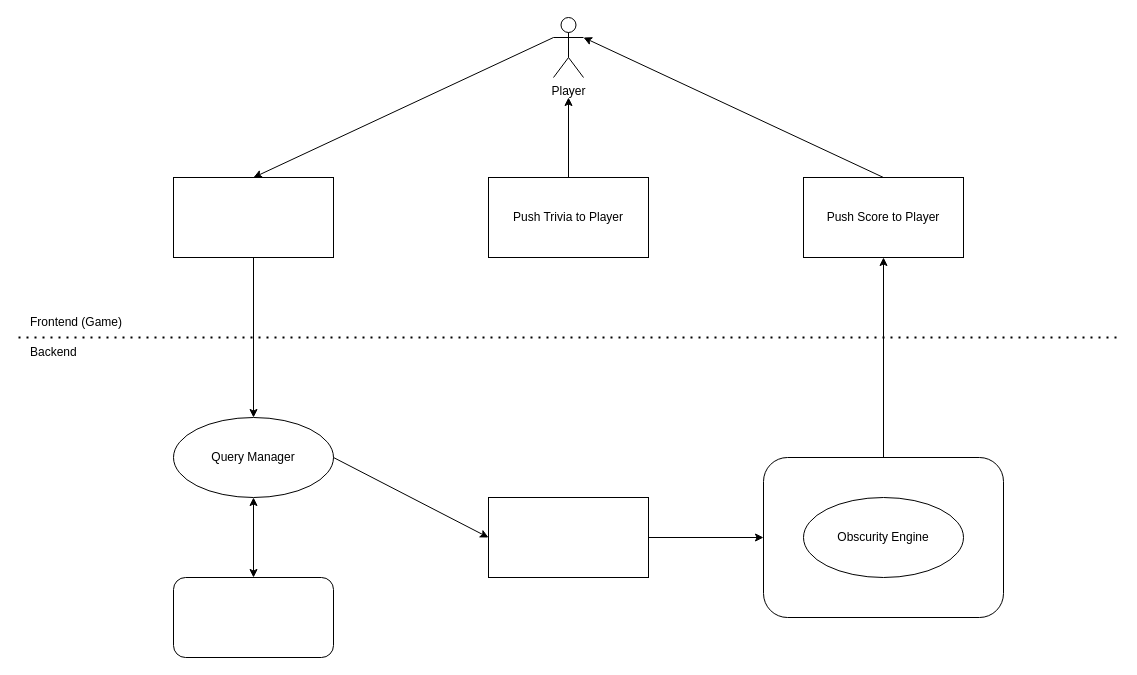
The diagram is 1137 pixels wide and 675 high, and some of its shapes have lost their labels. Here are the shapes that lost their labels. From the top down, the centre of each, then its label:
At pixel 253 217: "Get Inputs from Player".
At pixel 568 537: "Standardize Data".
At pixel 253 617: "Data".
